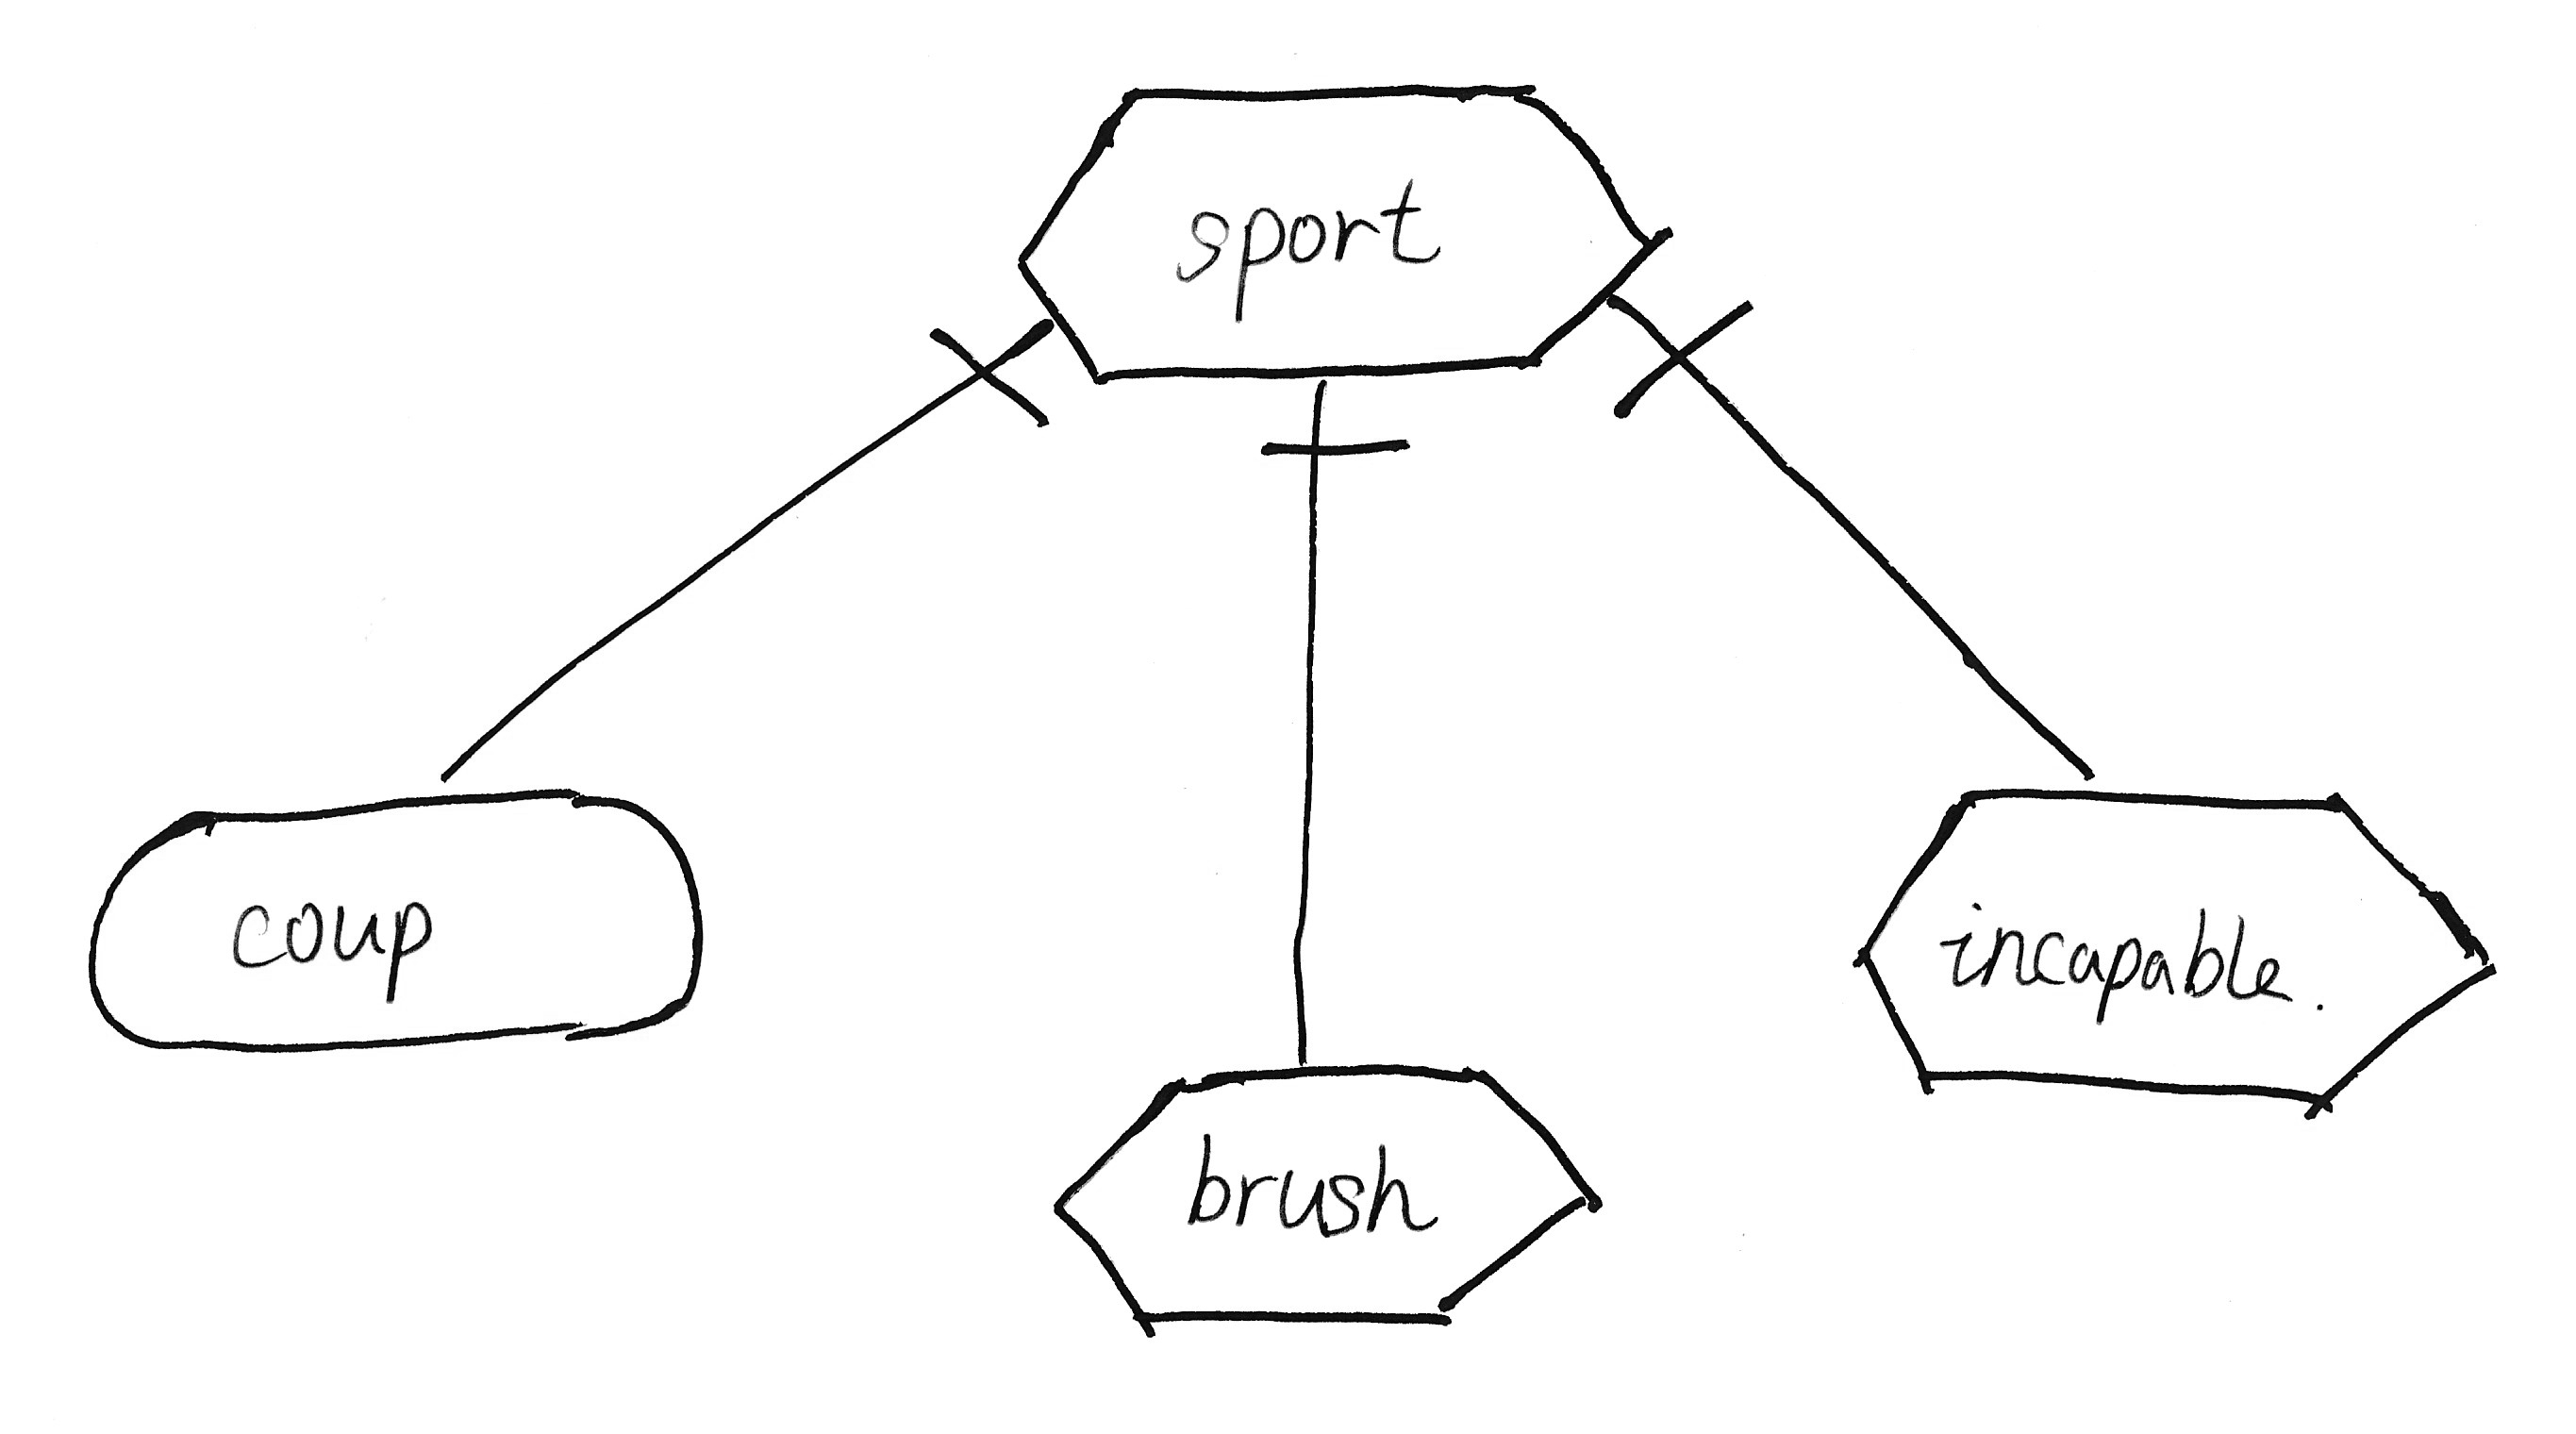and: (1601, 291, 1794, 440), (913, 298, 1073, 461), (1250, 383, 1423, 502)
goal: (65, 761, 719, 1072)
task: (1834, 774, 2518, 1134), (999, 65, 1688, 396), (1036, 1040, 1628, 1349)
